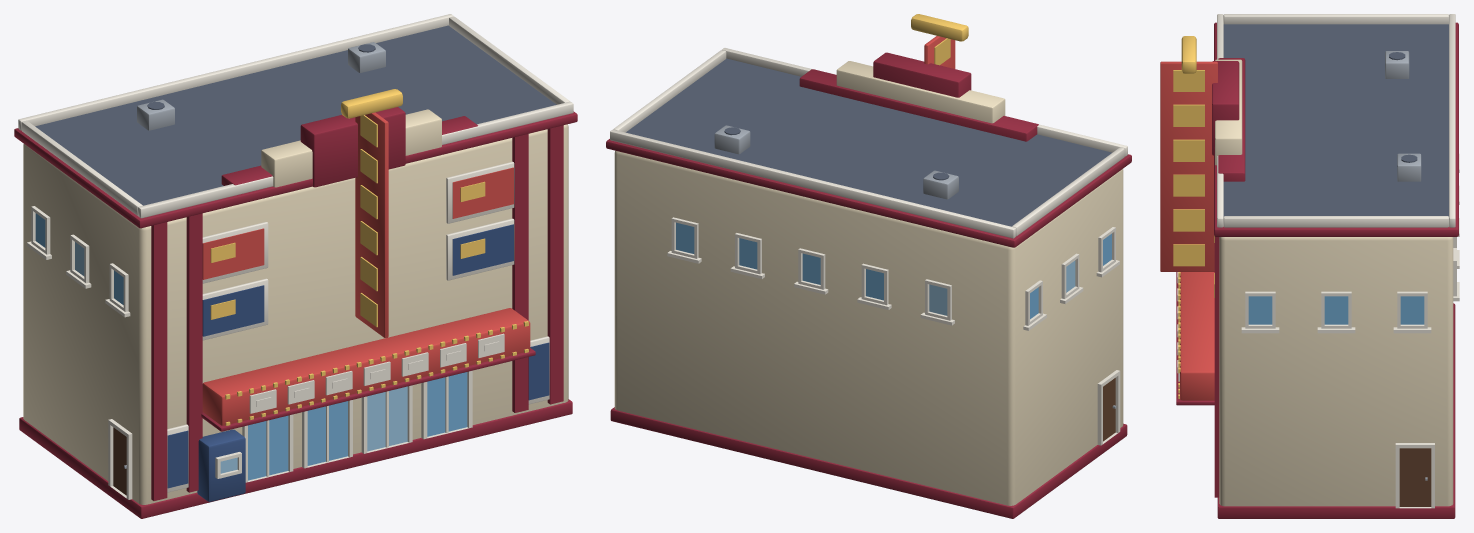
File: building_cinema.glb
3 views of the same model, side by side, from view 1: azimuth 30°, elevation 25°; view 2: azimuth 150°, elevation 25°; view 3: azimuth 270°, elevation 25° (orthographic). The views are drawn at different scales.
Visible parts, largest first — view 1: building; view 2: building; view 3: building.
Boxes of the visible parts, bbox=[...] form: building: bbox=[14, 14, 577, 518]; building: bbox=[606, 14, 1131, 518]; building: bbox=[1160, 14, 1459, 518].
Bounding box in the file's own units: 16.22 × 13.42 × 9.86.
